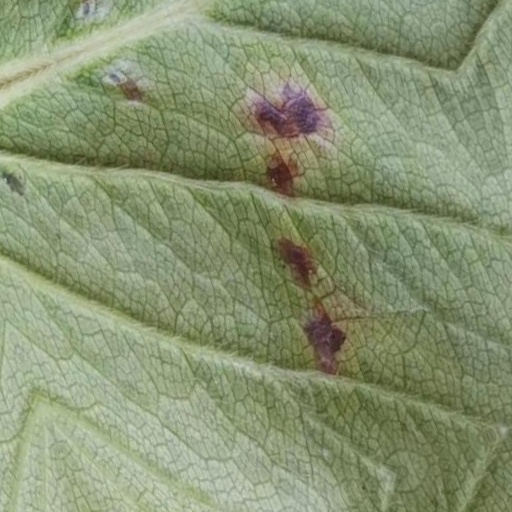Angular Leafspot: (35, 19, 390, 401)
